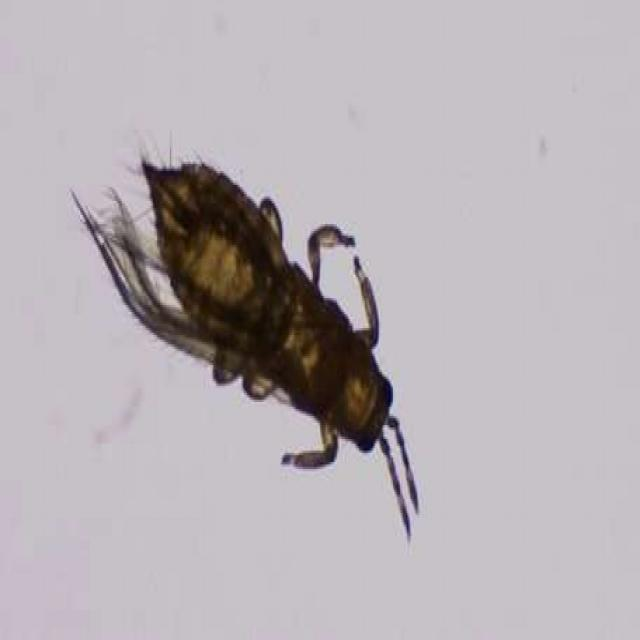Thrip-Adult-: (53, 124, 437, 525)
